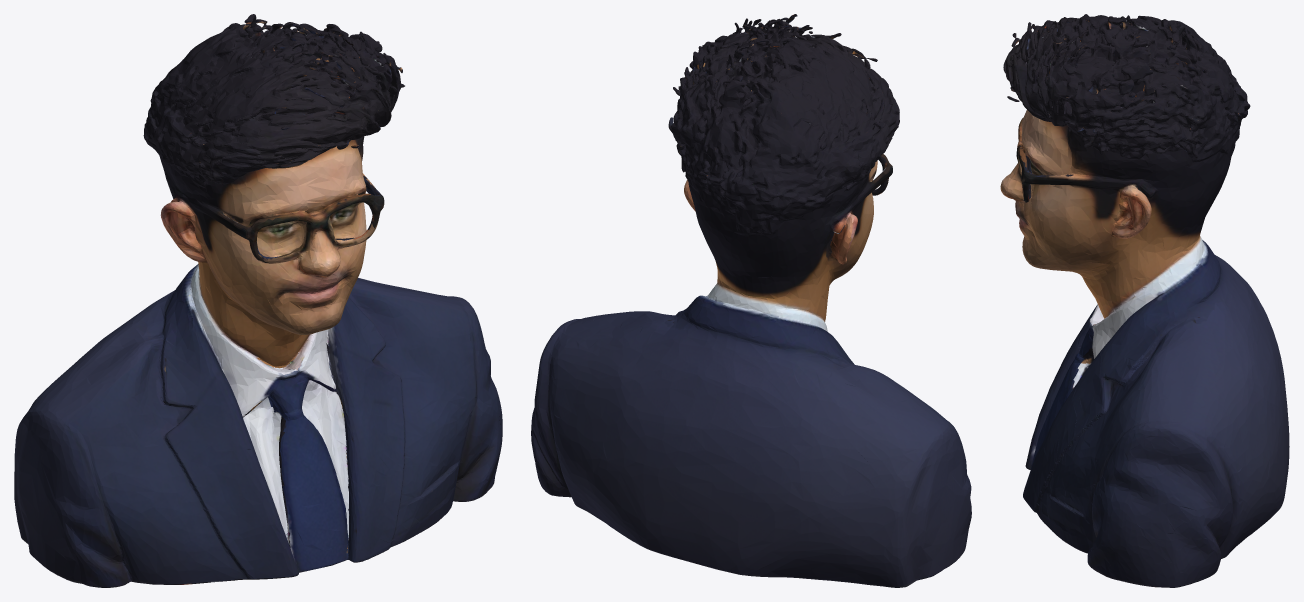
File: avatar.glb
3 views of the same model, side by side, from view 1: azimuth 30°, elevation 25°; view 2: azimuth 150°, elevation 25°; view 3: azimuth 270°, elevation 25° (orthographic). The views are drawn at different scales.
Visible parts, largest first — view 1: world; view 2: world; view 3: world.
Part boxes in pixels (bbox=[...]): world: bbox=[14, 14, 502, 587]; world: bbox=[531, 14, 971, 587]; world: bbox=[1000, 14, 1289, 587].
Size of the model in its own units: 1.83 by 1.97 by 1.1.
Materials: 1 (1 with a texture image).
